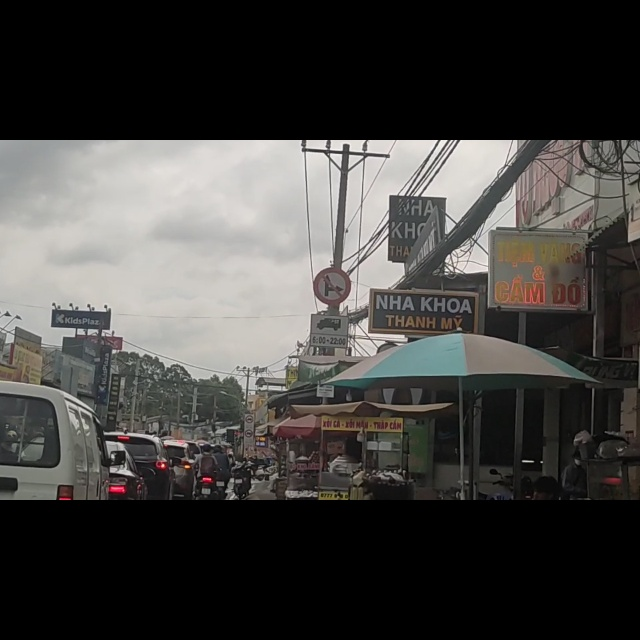bien_cam: (314, 228, 350, 292), (310, 309, 347, 369)
